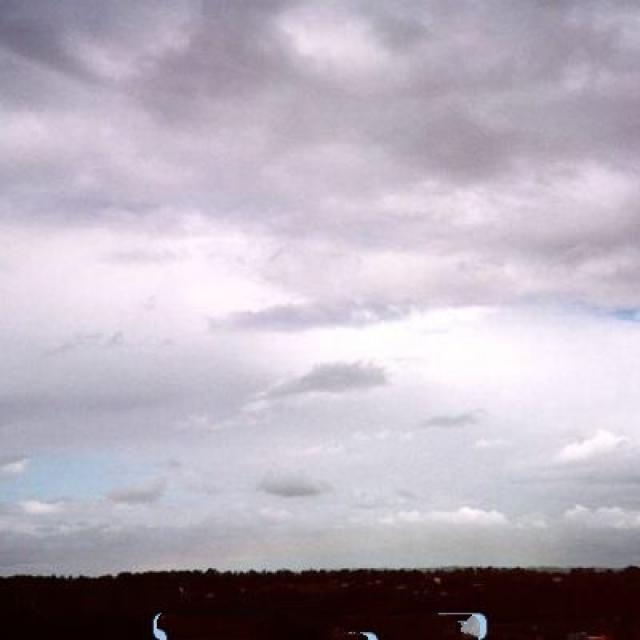Ns: (15, 32, 640, 486)
